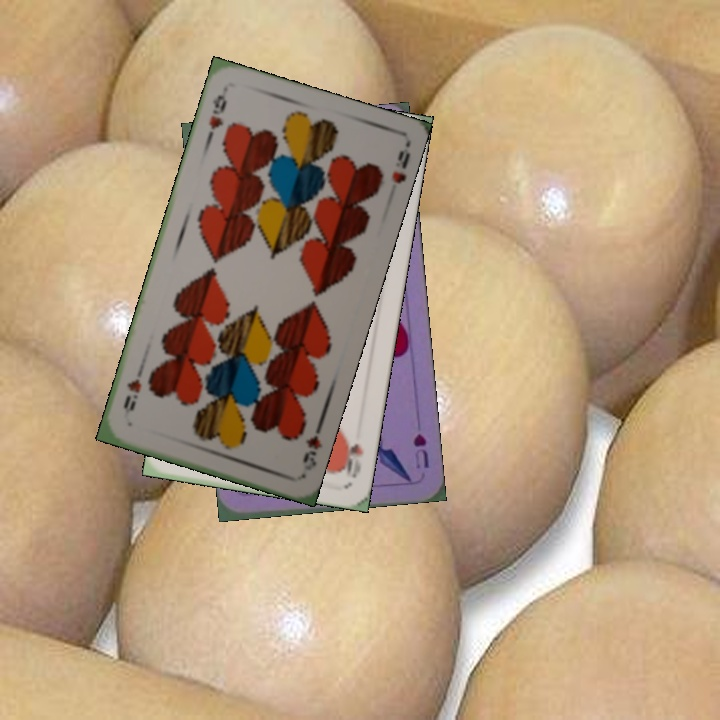H9: (298, 419, 325, 473), (204, 90, 230, 132)
HO: (338, 432, 366, 480)
HU: (409, 429, 432, 472)
